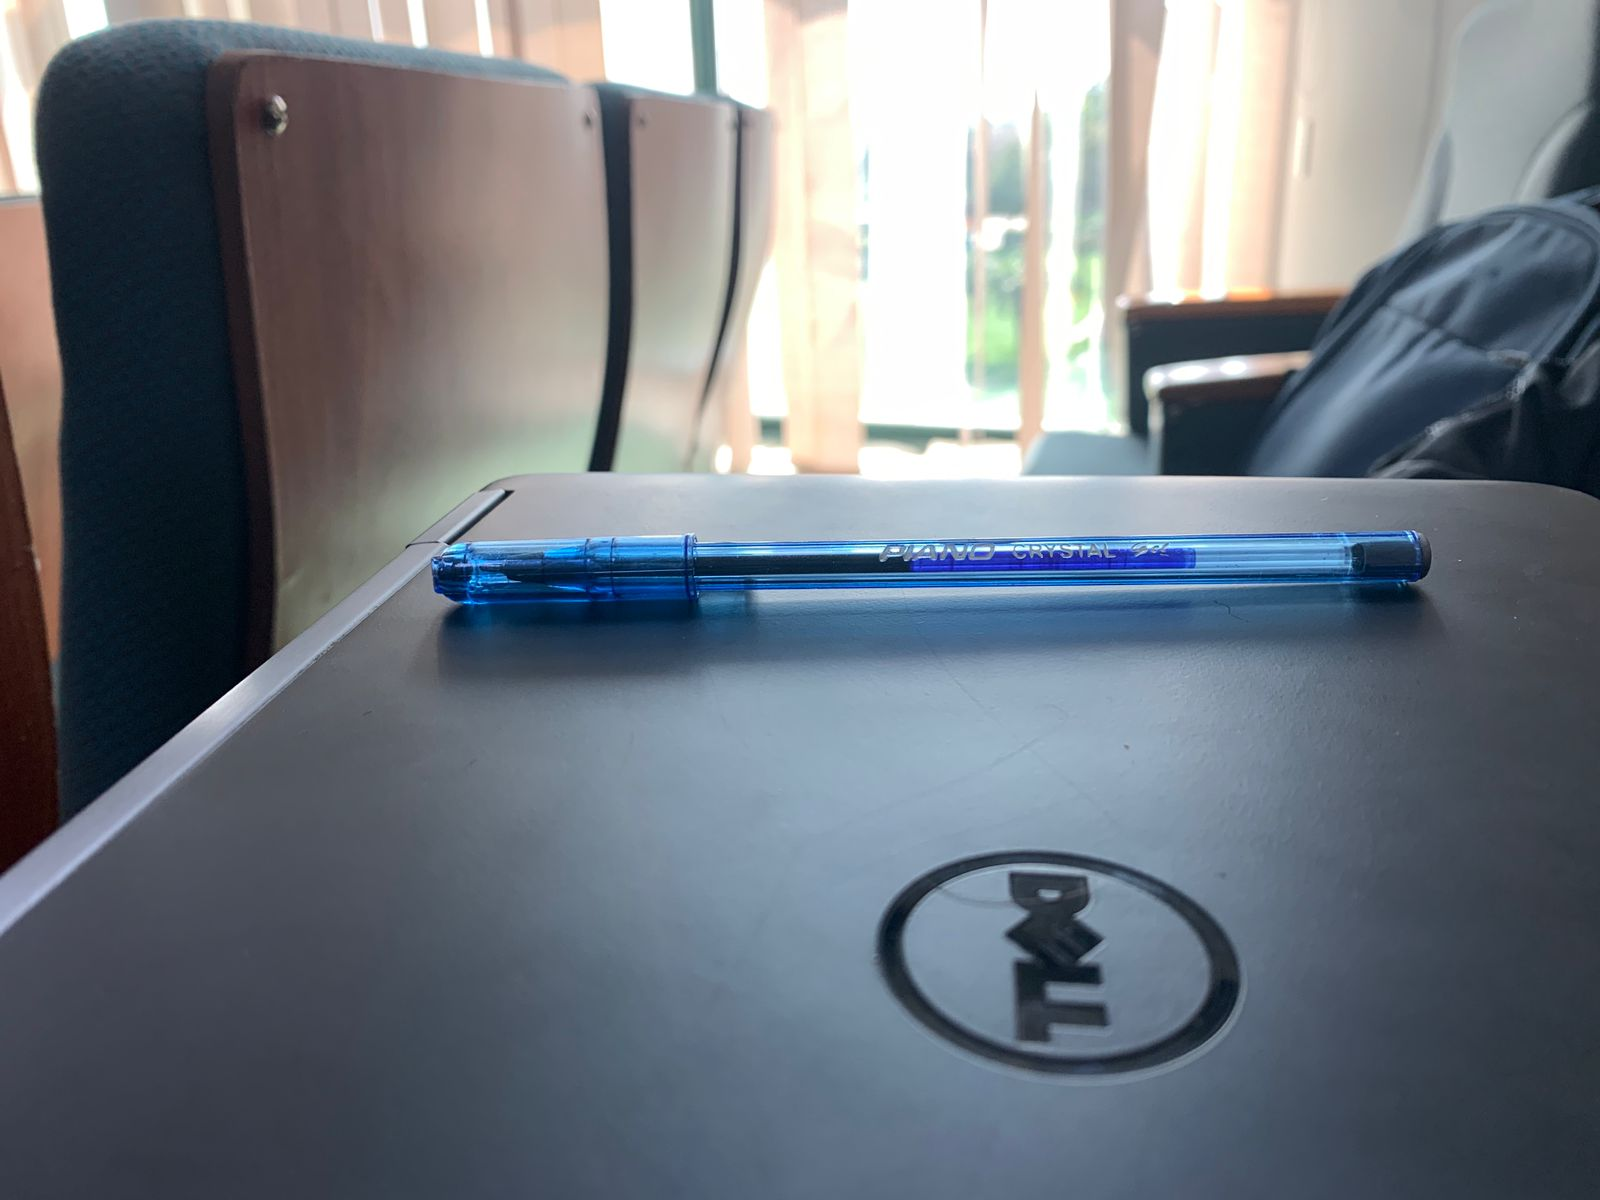pen: (391, 495, 1475, 661)
